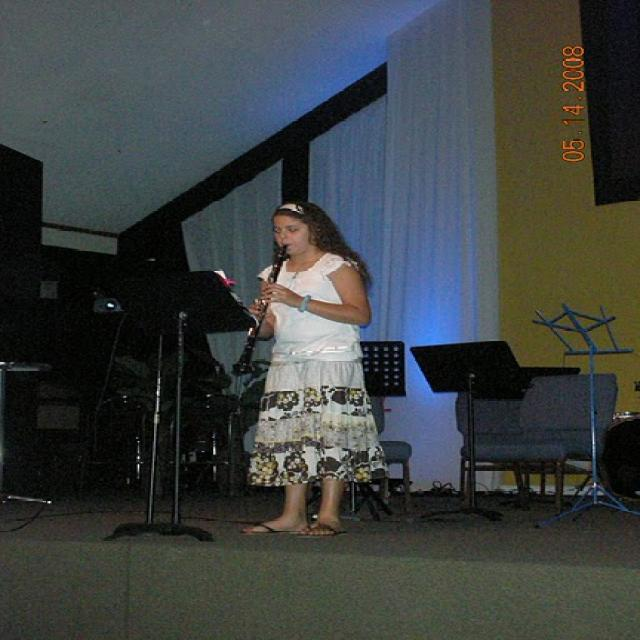clarinet: (231, 244, 295, 373)
